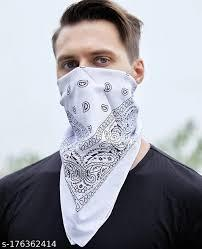scarf-kerchief: (54, 64, 143, 249)
